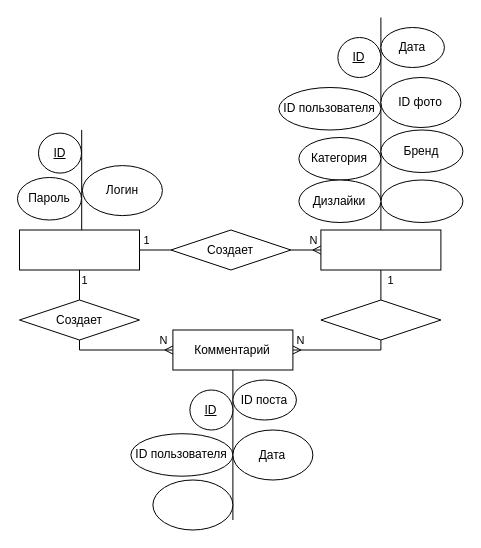
Image size: 481x548. Some labels were removed from this diagram. The shapes that lost their labels are listed below. From the top down, each one's centre as x and y in pixels, then its label:
the point at 421,200: Лайки
the point at 79,249: Пользователь
the point at 380,249: Пост
the point at 380,319: Включает
the point at 192,504: Текст
